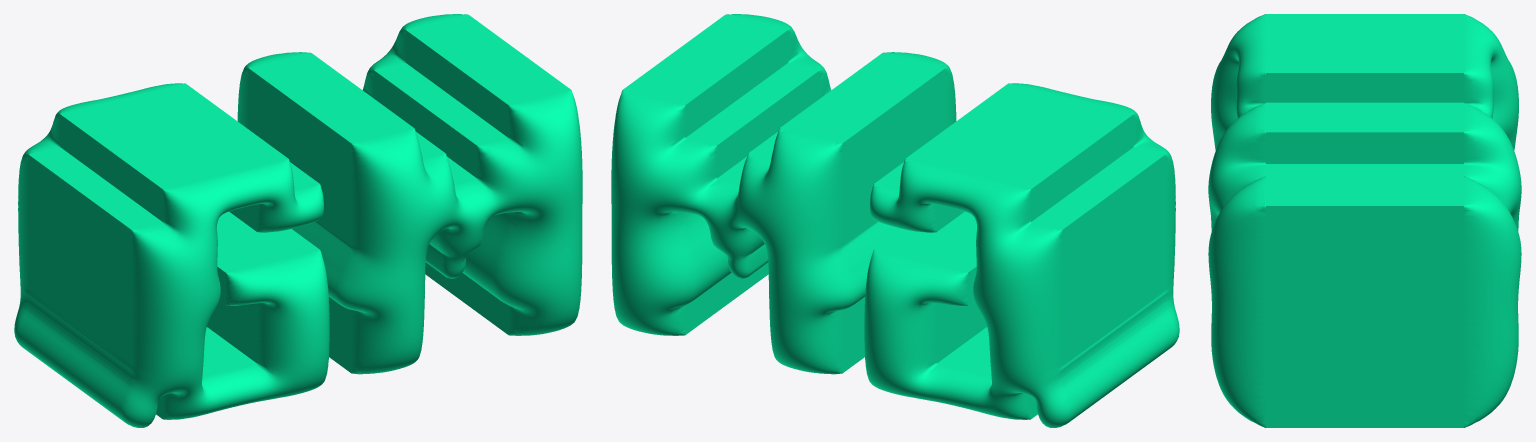
Rendered from GM-Snot.gltf.
3 views of the same model, side by side, from view 1: azimuth 30°, elevation 25°; view 2: azimuth 150°, elevation 25°; view 3: azimuth 270°, elevation 25° (orthographic). The views are drawn at different scales.
Size of the model in its own units: 0.043 by 0.0211 by 0.0269.
